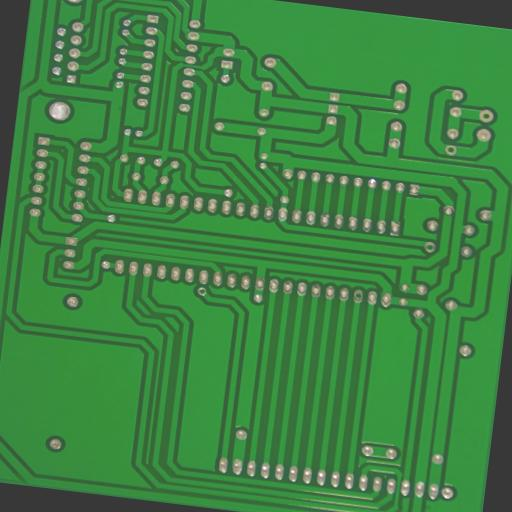missing_hole: (476, 108, 494, 124), (422, 240, 436, 254), (444, 145, 456, 156), (352, 290, 363, 300), (196, 286, 207, 296)
